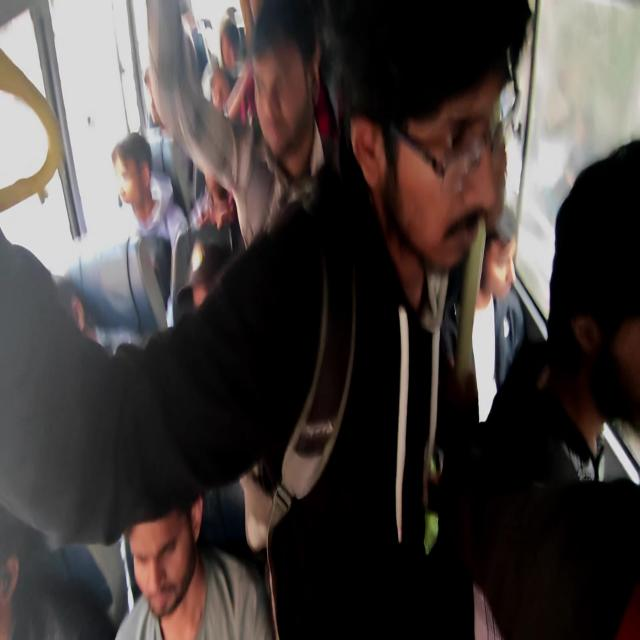person: (0, 1, 533, 637), (468, 138, 639, 638), (114, 488, 275, 638), (243, 0, 339, 230), (110, 131, 190, 322)
